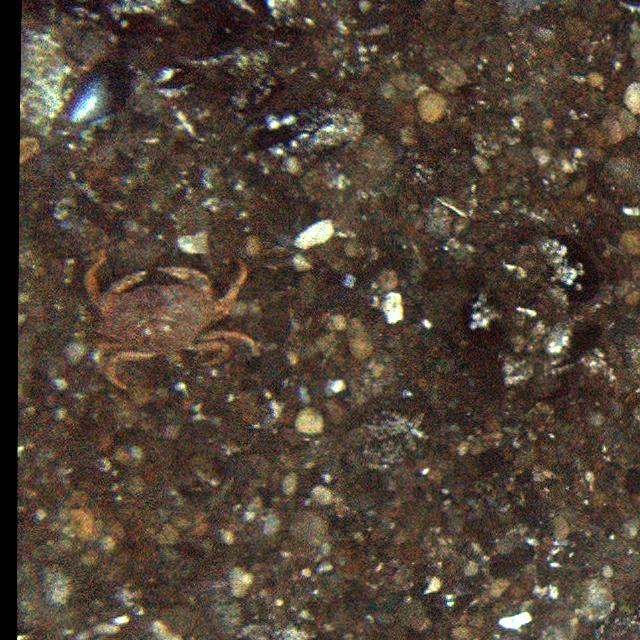crab: (82, 250, 266, 376)
